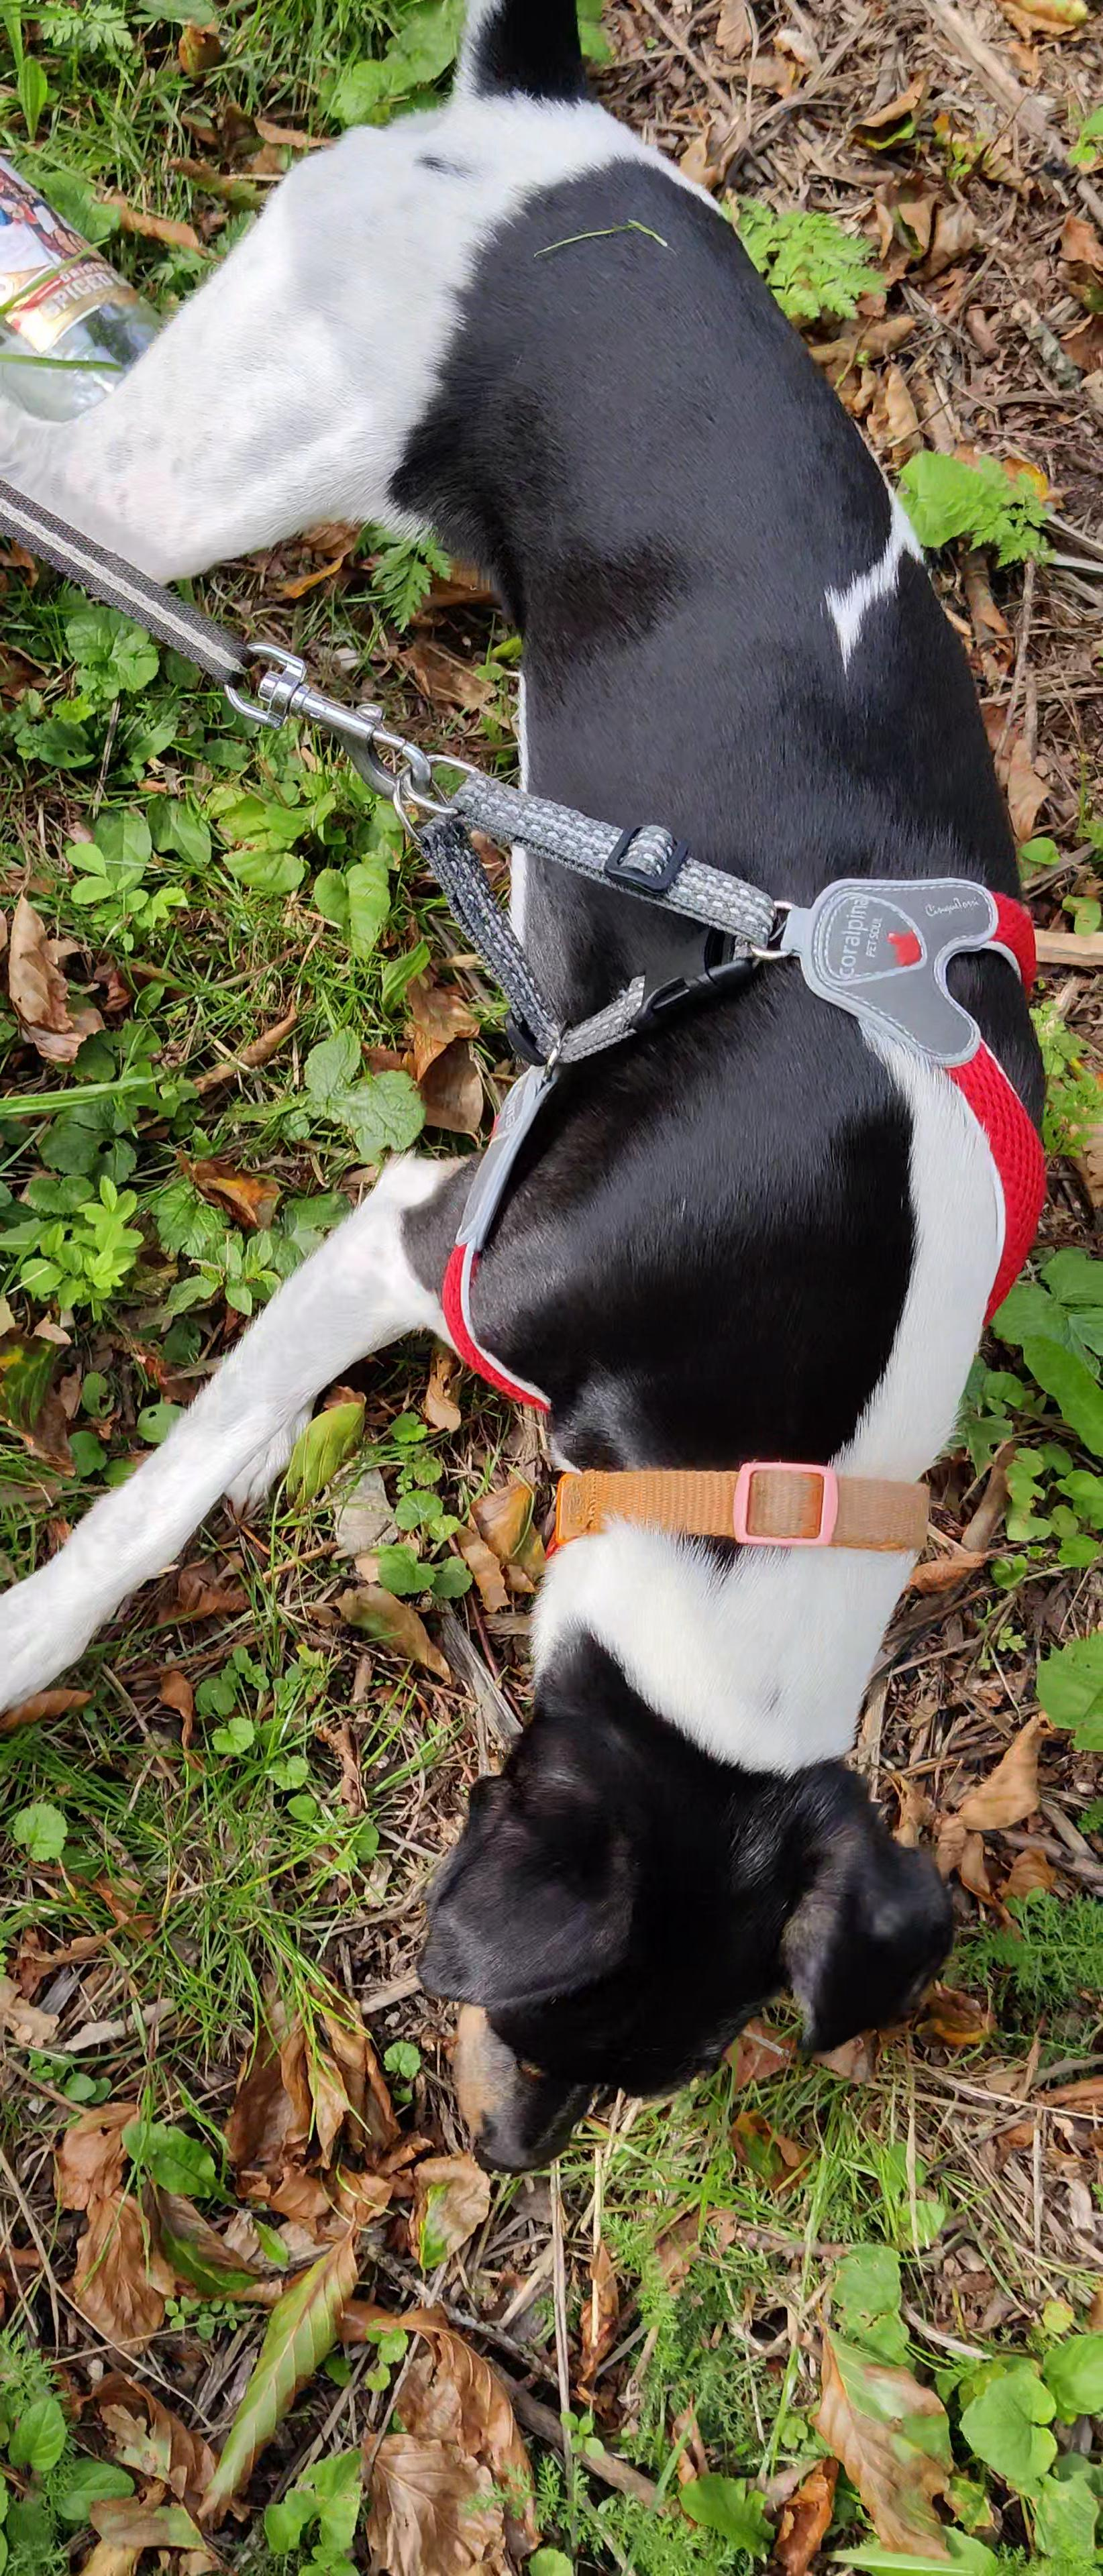Dog: (0, 0, 1065, 2195)
